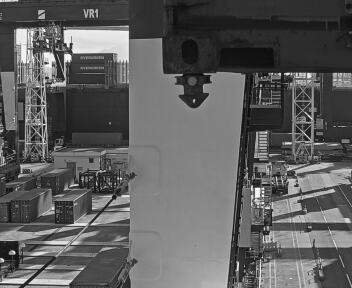twist_lock_2: (108, 52, 164, 90)
